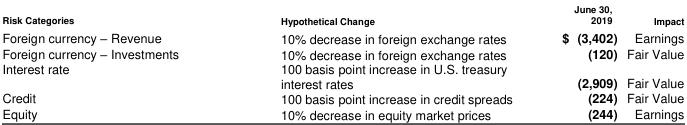table: (1, 1, 683, 122)
table column: (228, 1, 536, 122), (1, 1, 228, 122), (536, 1, 621, 122), (621, 1, 683, 122)
table column header: (1, 1, 683, 27)
table row: (1, 60, 683, 90), (1, 1, 683, 27), (1, 27, 683, 45), (1, 105, 683, 122), (1, 45, 683, 60), (1, 90, 683, 105)
